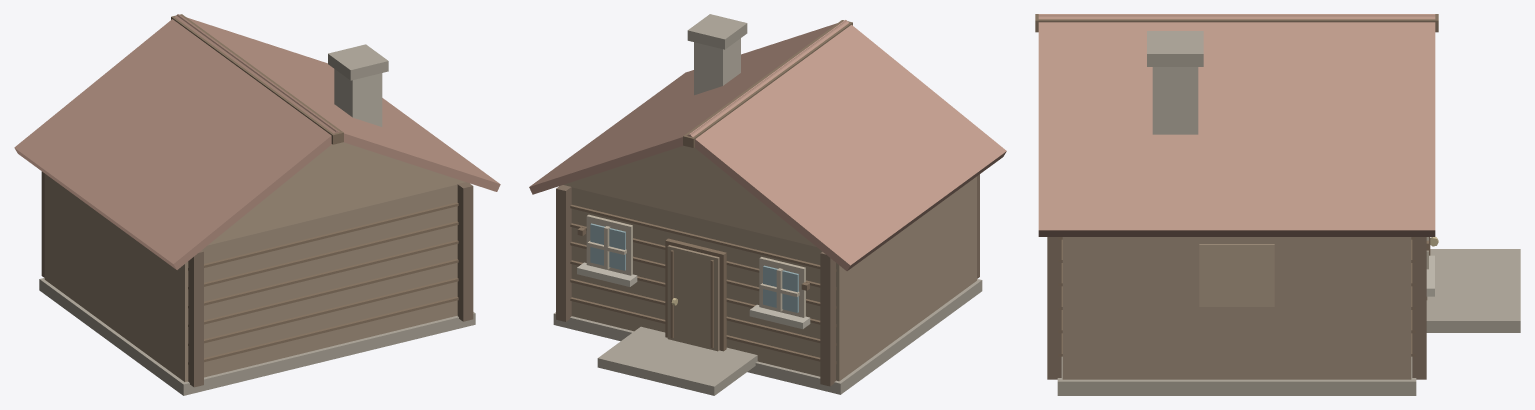
The picture shows the model from 3 angles, left to right: view 1: azimuth 30°, elevation 25°; view 2: azimuth 150°, elevation 25°; view 3: azimuth 270°, elevation 25°; orthographic projection. The views are drawn at different scales.
Visible parts, largest first — view 1: StaticGeometry; view 2: StaticGeometry; view 3: StaticGeometry.
Boxes of the visible parts, x1,y1,x2,y2 form: StaticGeometry: (14,14,500,395); StaticGeometry: (529,14,1006,395); StaticGeometry: (1035,14,1520,395).
Bounding box in the file's own units: 6.88 × 5.02 × 7.1.
